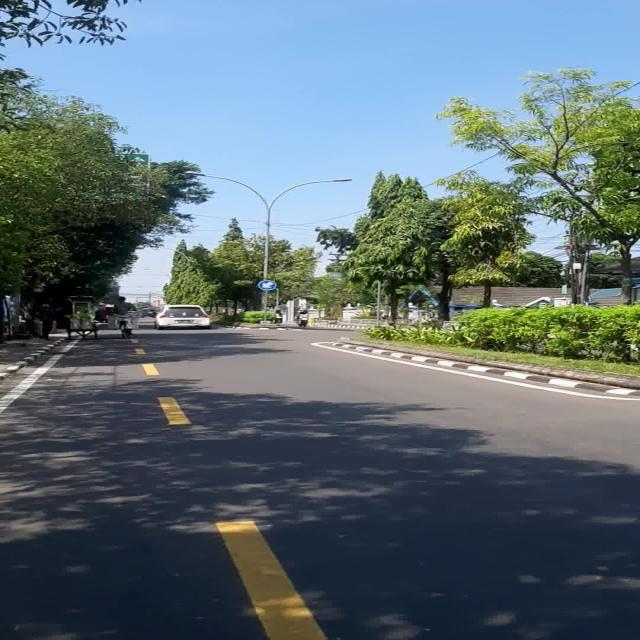Lajur Kiri: (258, 280, 277, 291)
